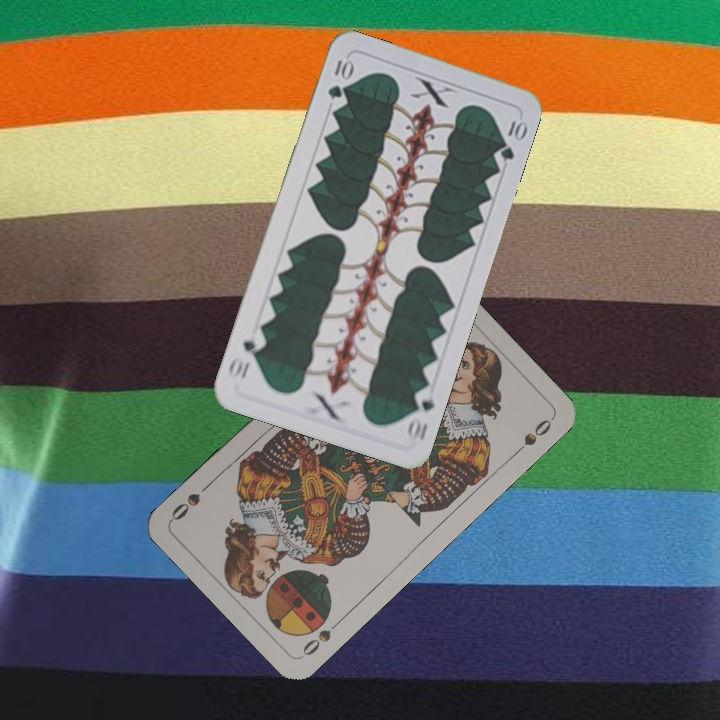G10: (402, 384, 437, 444), (323, 53, 355, 103)
SO: (298, 615, 345, 660)
